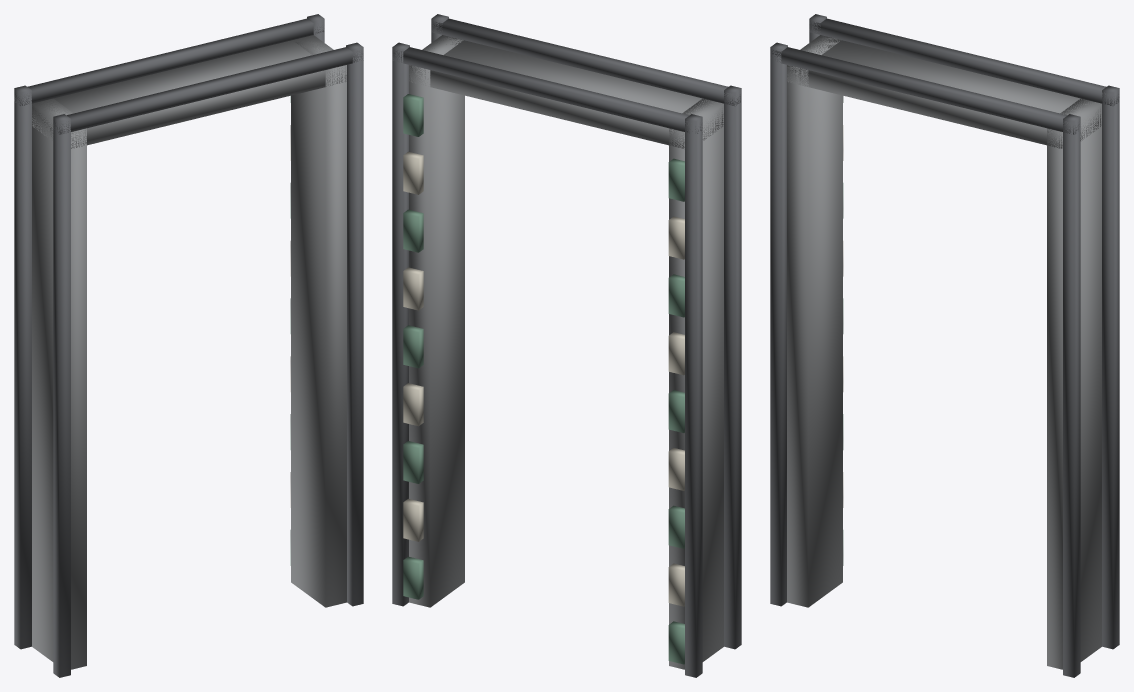
Rendered from doorway_tile_return_w96_h200_d24.glb.
3 renders of one model, left to right at view 1: azimuth 30°, elevation 25°; view 2: azimuth 150°, elevation 25°; view 3: azimuth 330°, elevation 25°, orthographic.
Visible parts, largest first — view 1: world; view 2: world; view 3: world.
Part boxes in pixels (x1=…): world: x1=14, y1=14, x2=363, y2=677; world: x1=392, y1=14, x2=741, y2=677; world: x1=770, y1=14, x2=1119, y2=677.
Size of the model in its own units: 1.22 by 2.14 by 0.3207.
